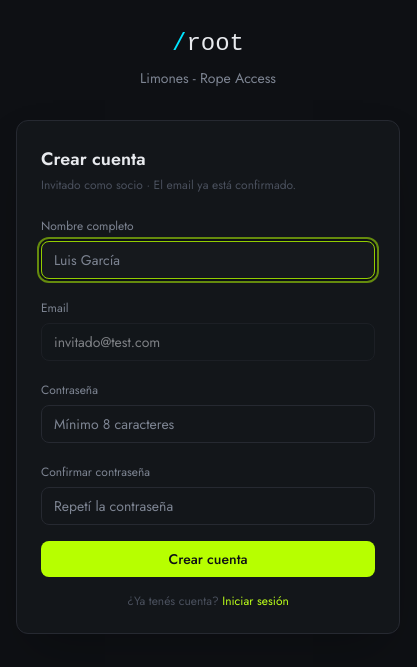
Test case: RegistroPage — con invitación válida › muestra error si el email ya está registrado
The width and height of the screenshot is (417, 667).
Type "María López" into the field with placeholder "Luis García" at (208,260), box [41, 241, 375, 279]
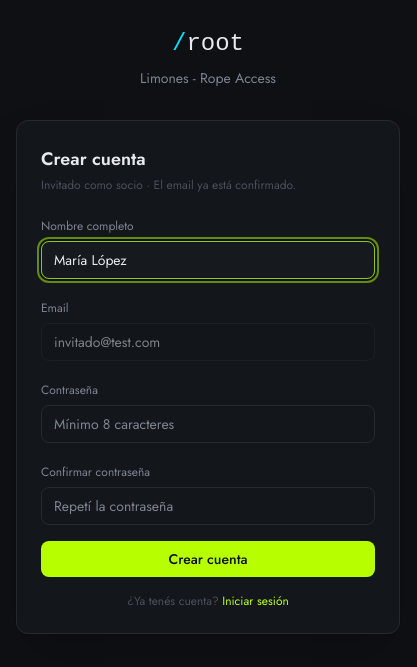
Type "segura1234" into the password field with placeholder "Mínimo 8 caracteres" at (208,424), box [41, 405, 375, 443]
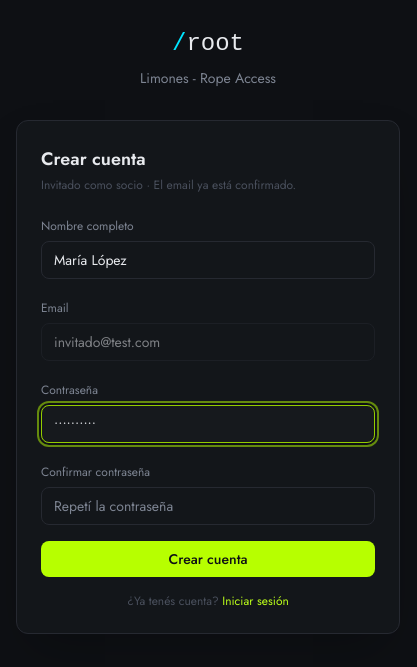
Type "segura1234" into the password field with placeholder "Repetí la contraseña" at (208,506), box [41, 487, 375, 525]
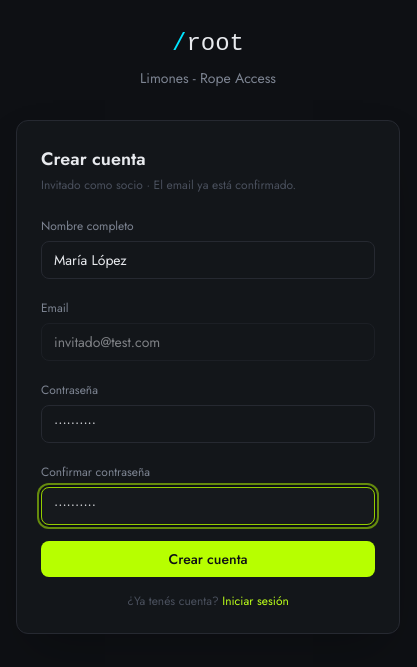
Click the button "Crear cuenta" at (208,559), box [41, 541, 375, 577]
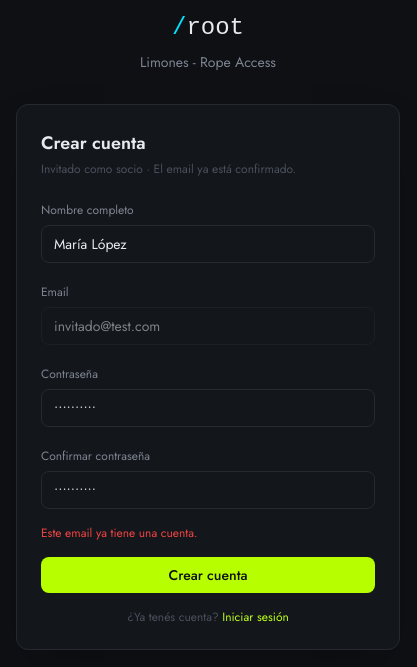
Expected: the text "Este email ya tiene una cuenta." is shown, [41, 524, 198, 542]
